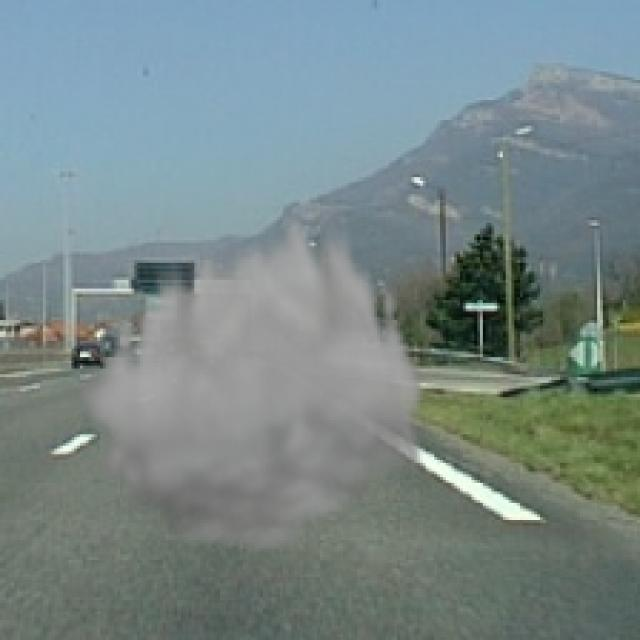Smoke: (74, 200, 429, 560)
